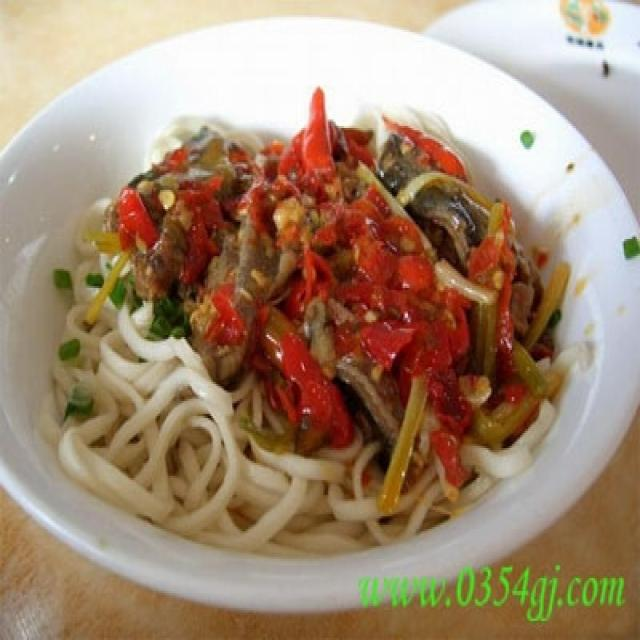面条主食: (9, 21, 628, 598)
